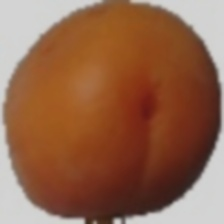apricot: (5, 31, 199, 184)
